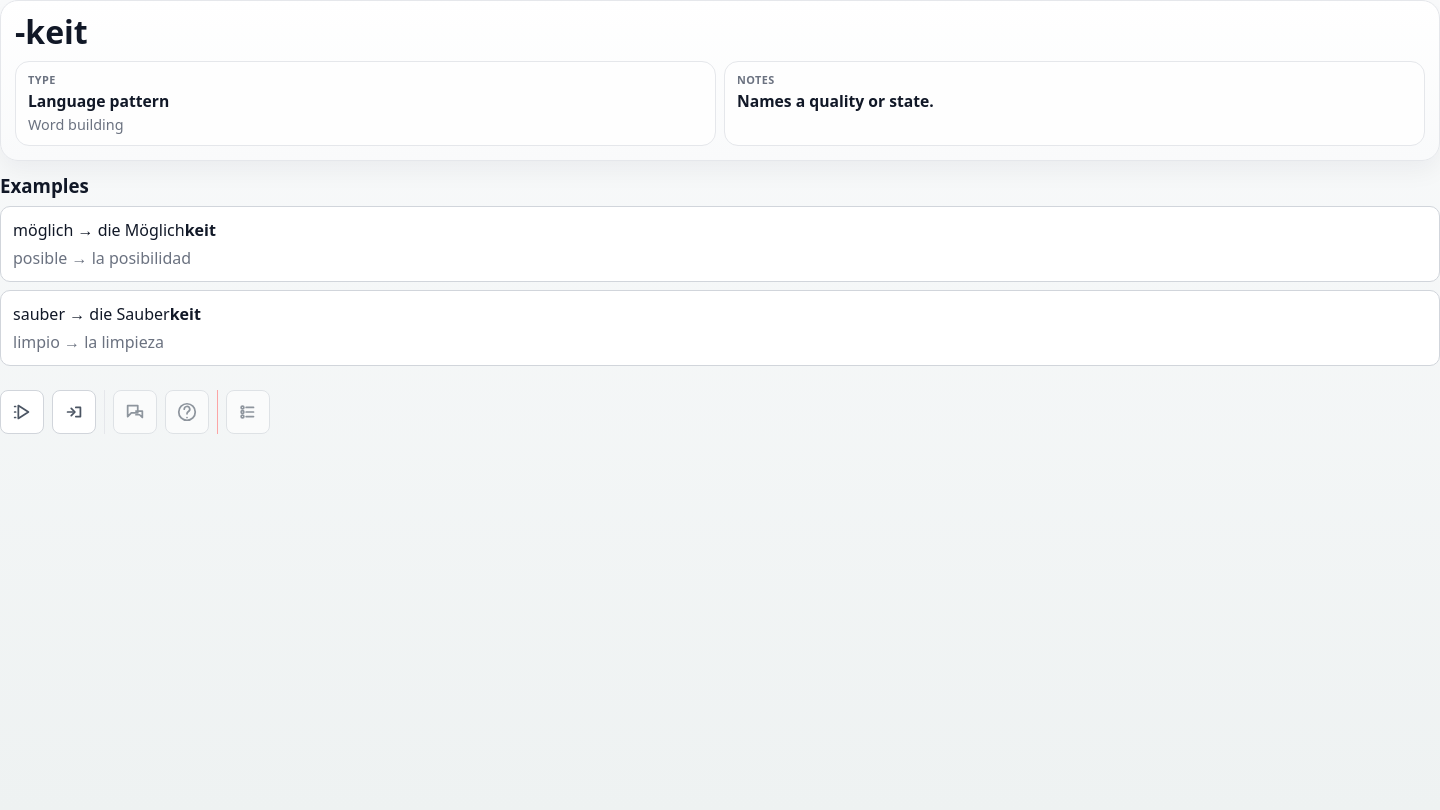
Test case: does not substitute a word strategy for an unknown identifier: examples
What coordinates should you click on to do the following:
click the button named "Open strategies"
I would click on:
 (22, 412)
Its box is [0, 390, 44, 434].
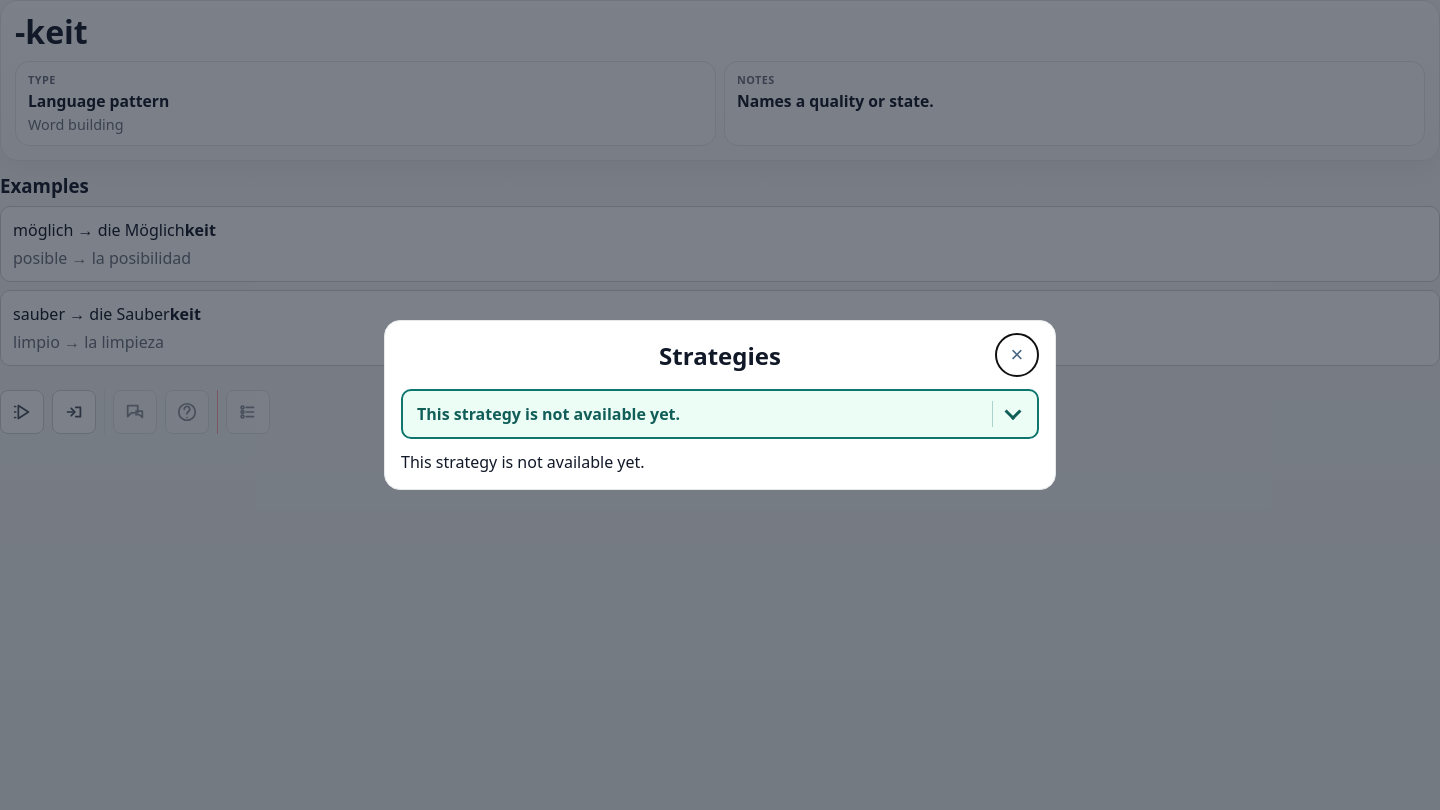
Check: the message reads "This strategy is not available yet.", box [401, 451, 645, 473]
